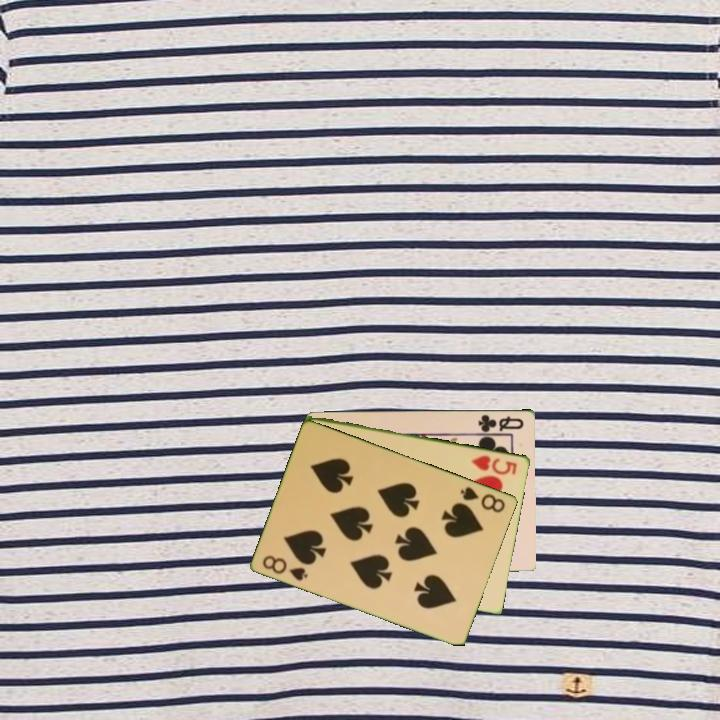5h: (468, 451, 520, 478)
8s: (259, 551, 311, 583), (457, 483, 508, 515)
Qc: (473, 411, 527, 436)
